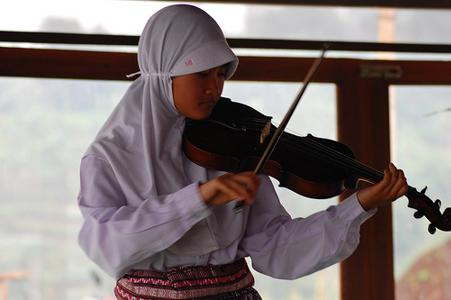person: (78, 5, 408, 300)
